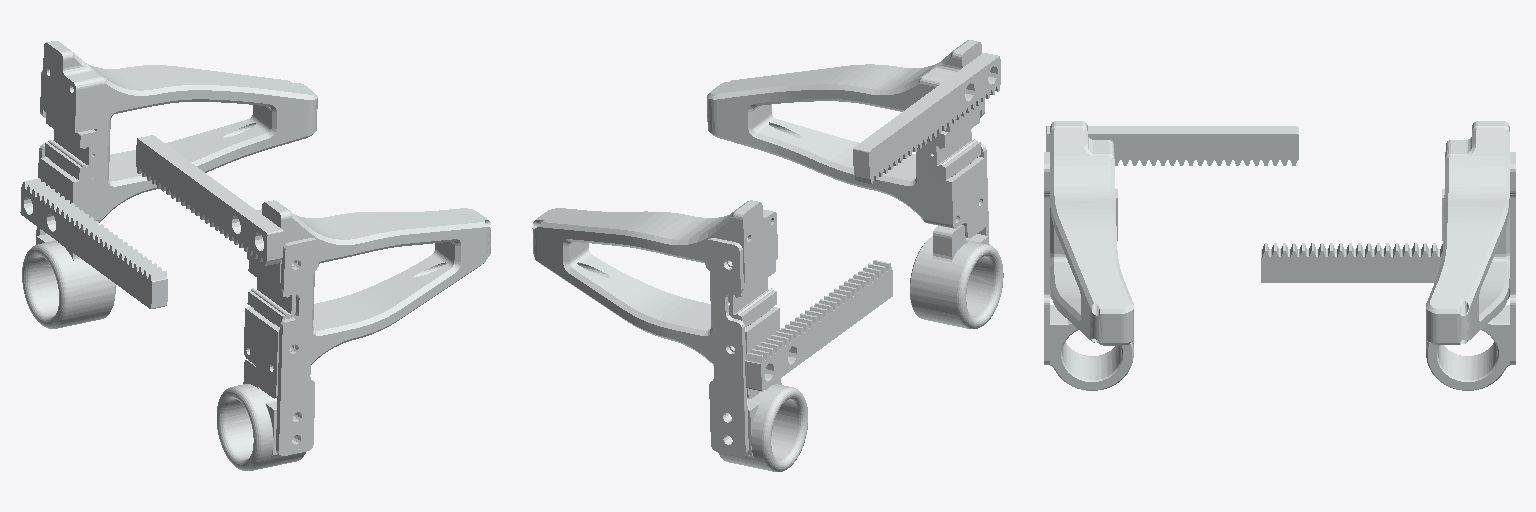
URDF robot description (y1):
<?xml version="1.0" encoding="utf-8"?>
<!-- This URDF was automatically created by SolidWorks to URDF Exporter! Originally created by [author] ([email redacted]) 
     Commit Version: 1.6.0-4-g7f85cfe  Build Version: 1.6.7995.38578
     For more information, please see http://wiki.ros.org/sw_urdf_exporter -->
<robot
  name="y1">
  <link name="world"/>
  <joint name="fixed_base_joint" type="fixed">
    <origin
      xyz="0 0 0.06675"
      rpy="0 0 0" />
    <parent link="world"/>
    <child link="base_link"/>
    <axis
      xyz="0 0 1" />
  </joint>
  <link
    name="base_link">
    <inertial>
      <origin
        xyz="-0.000029 -0.000001 0.033965"
        rpy="0 0 0" />
      <mass
        value="0.632" />
      <inertia
        ixx="0.000532"
        ixy="0.000000"
        ixz="0.000001"
        iyy="0.000532"
        iyz="0.000000"
        izz="0.000493" />
    </inertial>
    <visual>
      <origin
        xyz="0 0 0"
        rpy="0 0 0" />
      <geometry>
        <mesh
          filename="package://y1_description/meshes/base_link.STL" />
      </geometry>
      <material
        name="">
        <color
          rgba="0.89804 0.91765 0.92941 1" />
      </material>
    </visual>
    <collision>
      <origin
        xyz="0 0 0"
        rpy="0 0 0" />
      <geometry>
        <mesh
          filename="package://y1_description/meshes/base_link.STL" />
      </geometry>
    </collision>
  </link>
  <link
    name="Link1">
    <inertial>
      <origin
        xyz="0.000693 -0.001221 0.050197"
        rpy="0 0 0" />
      <mass
        value="0.893000" />
      <inertia
        ixx="0.000738"
        ixy="0.000001"
        ixz="-0.000001"
        iyy="0.000755"
        iyz="-0.000002"
        izz="0.000606" />
    </inertial>
    <visual>
      <origin
        xyz="0 0 0"
        rpy="0 0 0" />
      <geometry>
        <mesh
          filename="package://y1_description/meshes/Link1.STL" />
      </geometry>
      <material
        name="">
        <color
          rgba="0.75294 0.75294 0.75294 1" />
      </material>
    </visual>
    <collision>
      <origin
        xyz="0 0 0"
        rpy="0 0 0" />
      <geometry>
        <mesh
          filename="package://y1_description/meshes/Link1.STL" />
      </geometry>
    </collision>
  </link>
  <joint
    name="JOINT1"
    type="revolute">
    <origin
      xyz="0 0 0"
      rpy="0 0 0" />
    <parent
      link="base_link" />
    <child
      link="Link1" />
    <axis
      xyz="0 0 -1" />
    <limit
      lower="-3.0"
      upper="3.0"
      effort="30"
      velocity="5" />
  </joint>
  <link
    name="Link2">
    <inertial>
      <origin
        xyz="-0.185969 -0.001045 -0.000524"
        rpy="0 0 0" />
      <mass
        value="1.028000" />
      <inertia
        ixx="0.000769"
        ixy="0.000142"
        ixz="-0.000070"
        iyy="0.011712"
        iyz="0.000002"
        izz="0.011441" />
    </inertial>
    <visual>
      <origin
        xyz="0 0 0"
        rpy="0 0 0" />
      <geometry>
        <mesh
          filename="package://y1_description/meshes/Link2.STL" />
      </geometry>
      <material
        name="">
        <color
          rgba="0.898039215686275 0.917647058823529 0.929411764705882 1" />
      </material>
    </visual>
    <collision>
      <origin
        xyz="0 0 0"
        rpy="0 0 0" />
      <geometry>
        <mesh
          filename="package://y1_description/meshes/Link2.STL" />
      </geometry>
    </collision>
  </link>
  <joint
    name="JOINT2"
    type="revolute">
    <origin
      xyz="0.00075 0 0.055"
      rpy="1.5708 0 0" />
    <parent
      link="Link1" />
    <child
      link="Link2" />
    <axis
      xyz="0 0 1" />
    <limit
      lower="-3.5"
      upper="0.2"
      effort="100"
      velocity="5" />
  </joint>
  <link
    name="Link3">
    <inertial>
      <origin
        xyz="0.132810 0.052976 -0.000025"
        rpy="0 0 0" />
      <mass
        value="0.838" />
      <inertia
        ixx="0.000976"
        ixy="-0.001080"
        ixz="0.000036"
        iyy="0.007005"
        iyz="0.000000"
        izz="0.007063" />
    </inertial>
    <visual>
      <origin
        xyz="0 0 0"
        rpy="0 0 0" />
      <geometry>
        <mesh
          filename="package://y1_description/meshes/Link3.STL" />
      </geometry>
      <material
        name="">
        <color
          rgba="0.89804 0.91765 0.92941 1" />
      </material>
    </visual>
    <collision>
      <origin
        xyz="0 0 0"
        rpy="0 0 0" />
      <geometry>
        <mesh
          filename="package://y1_description/meshes/Link3.STL" />
      </geometry>
    </collision>
  </link>
  <joint
    name="JOINT3"
    type="revolute">
    <origin
      xyz="-0.28 0 0"
      rpy="0 0 0" />
    <parent
      link="Link2" />
    <child
      link="Link3" />
    <axis
      xyz="0 0 1" />
    <limit
      lower="-0.2"
      upper="4.1"
      effort="30"
      velocity="5" />
  </joint>
  <link
    name="Link4">
    <inertial>
      <origin
        xyz="0.067326 0.059806 0.005043"
        rpy="0 0 0" />
      <mass
        value="0.444000" />
      <inertia
        ixx="0.000428"
        ixy="-0.000241"
        ixz="0.000099"
        iyy="0.000477"
        iyz="0.000091"
        izz="0.000648" />
    </inertial>
    <visual>
      <origin
        xyz="0 0 0"
        rpy="0 0 0" />
      <geometry>
        <mesh
          filename="package://y1_description/meshes/Link4.STL" />
      </geometry>
      <material
        name="">
        <color
          rgba="0.898039215686275 0.917647058823529 0.929411764705882 1" />
      </material>
    </visual>
    <collision>
      <origin
        xyz="0 0 0"
        rpy="0 0 0" />
      <geometry>
        <mesh
          filename="package://y1_description/meshes/Link4.STL" />
      </geometry>
    </collision>
  </link>
  <joint
    name="JOINT4"
    type="revolute">
    <origin
      xyz="0.215 0.063 0"
      rpy="0 0 0" />
    <parent
      link="Link3" />
    <child
      link="Link4" />
    <axis
      xyz="0 0 1" />
    <limit
      lower="-2.5"
      upper="1.7"
      effort="10"
      velocity="20" />
  </joint>
  <link
    name="Link5">
    <inertial>
      <origin
        xyz="0.002596 0.000018 0.039895"
        rpy="0 0 0" />
      <mass
        value="0.363000" />
      <inertia
        ixx="0.000189"
        ixy="0.000000"
        ixz="0.000008"
        iyy="0.000186"
        iyz="-0.000001"
        izz="0.000148" />
    </inertial>
    <visual>
      <origin
        xyz="0 0 0"
        rpy="0 0 0" />
      <geometry>
        <mesh
          filename="package://y1_description/meshes/Link5.STL" />
      </geometry>
      <material
        name="">
        <color
          rgba="0.89804 0.91765 0.92941 1" />
      </material>
    </visual>
    <collision>
      <origin
        xyz="0 0 0"
        rpy="0 0 0" />
      <geometry>
        <mesh
          filename="package://y1_description/meshes/Link5.STL" />
      </geometry>
    </collision>
  </link>
  <joint
    name="JOINT5"
    type="revolute">
    <origin
      xyz="0.080817 0.05072 0.00025"
      rpy="1.5708 0 -0.015918" />
    <parent
      link="Link4" />
    <child
      link="Link5" />
    <axis
      xyz="0 0 1" />
    <limit
      lower="-2.0"
      upper="2.0"
      effort="10"
      velocity="20" />
  </joint>
  <link
    name="Link6">
    <inertial>
      <origin
        xyz="-0.006 0.000 0.047"
        rpy="0 0 0" />
      <mass
        value=" 0.479" />
      <inertia
        ixx="0.000"
        ixy="0.000"
        ixz=" 0.000"
        iyy="0.001"
        iyz="0.000"
        izz="0.001" />
    </inertial>
    <visual>
      <origin
        xyz="0 0 0"
        rpy="0 0 0" />
      <geometry>
        <mesh
          filename="package://y1_description/meshes/Link6.STL" />
      </geometry>
      <material
        name="">
        <color
          rgba="1 1 1 1" />
      </material>
    </visual>
    <collision>
      <origin
        xyz="0 0 0"
        rpy="0 0 0" />
      <geometry>
        <mesh
          filename="package://y1_description/meshes/Link6.STL" />
      </geometry>
    </collision>
  </link>
  <joint
    name="JOINT6"
    type="revolute">
    <origin
      xyz="0.0235 0 0.044"
      rpy="3.1416 1.5708 3.1416" />
    <parent
      link="Link5" />
    <child
      link="Link6" />
    <axis
      xyz="0 0 1" />
    <limit
      lower="-3.0"
      upper="3.0"
      effort="10"
      velocity="20" />
  </joint>
  <link
    name="Claw_Link_R">
    <inertial>
      <origin
        xyz="0.008 -0.016 -0.129"
        rpy="0 0 0" />
      <mass
        value="0.086" />
      <inertia
        ixx="5.6073E-05"
        ixy="-5.0476E-07"
        ixz="-6.5556E-06"
        iyy="8.8688E-05"
        iyz="6.7747E-08"
        izz="8.684E-05" />
    </inertial>
    <visual>
      <origin
        xyz="0 0 0"
        rpy="0 0 0" />
      <geometry>
        <mesh
          filename="package://y1_description/meshes/Claw_Link_R.STL" />
      </geometry>
      <material
        name="">
        <color
          rgba="0.89804 0.91765 0.92941 1" />
      </material>
    </visual>
    <collision>
      <origin
        xyz="0 0 0"
        rpy="0 0 0" />
      <geometry>
        <mesh
          filename="package://y1_description/meshes/Claw_Link_R.STL" />
      </geometry>
    </collision>
  </link>
  <joint
    name="Claw_Link_R"
    type="prismatic">
    <origin
      xyz="-0.0012063 0.076999 0.075791"
      rpy="0 -1.5708 -1.5708" />
    <parent
      link="Link6" />
    <child
      link="Claw_Link_R" />
    <axis
      xyz="0 0 -1" />
    <limit
      lower="0"
      upper="0.045"
      effort="10"
      velocity="20" />
  </joint>
  <link
    name="Claw_Link_L">
    <inertial>
      <origin
        xyz="0.008 0.006 0.129"
        rpy="0 0 0" />
      <mass
        value="0.086" />
      <inertia
        ixx="5.7863E-05"
        ixy="-4.8654E-07"
        ixz="6.5445E-06"
        iyy="8.9831E-05"
        iyz="-1.1971E-07"
        izz="8.8153E-05" />
    </inertial>
    <visual>
      <origin
        xyz="0 0 0"
        rpy="0 0 0" />
      <geometry>
        <mesh
          filename="package://y1_description/meshes/Claw_Link_L.STL" />
      </geometry>
      <material
        name="">
        <color
          rgba="0.89804 0.91765 0.92941 1" />
      </material>
    </visual>
    <collision>
      <origin
        xyz="0 0 0"
        rpy="0 0 0" />
      <geometry>
        <mesh
          filename="package://y1_description/meshes/Claw_Link_L.STL" />
      </geometry>
    </collision>
  </link>
  <joint
    name="Claw_Link_L"
    type="prismatic">
    <origin
      xyz="-0.0012063 -0.077001 0.07579"
      rpy="0 -1.5708 -1.5708" />
    <parent
      link="Link6" />
    <child
      link="Claw_Link_L" />
    <axis
      xyz="0 0 -1" />
    <limit
      lower="0"
      upper="0.045"
      effort="10"
      velocity="20" />
  </joint>
</robot>

--- Render facts (derived) ---
Views: 3 orthographic renders of the robot side by side, from view 1: azimuth 30°, elevation 25°; view 2: azimuth 150°, elevation 25°; view 3: azimuth 270°, elevation 25°.
Robot: y1 — 10 links, 9 joints (6 revolute, 2 prismatic, 1 fixed); root link world; default pose: all joints at 0.
Links seen in each view (by area): view 1: Claw_Link_R, Claw_Link_L; view 2: Claw_Link_L, Claw_Link_R; view 3: Claw_Link_R, Claw_Link_L.
Boxes of the visible links, left/top/right/bottom form: Claw_Link_R: left=136, top=135, right=491, bottom=470; Claw_Link_L: left=20, top=41, right=317, bottom=328; Claw_Link_L: left=532, top=200, right=892, bottom=471; Claw_Link_R: left=707, top=40, right=1003, bottom=328; Claw_Link_R: left=1044, top=121, right=1298, bottom=390; Claw_Link_L: left=1261, top=121, right=1515, bottom=390.
Bounding box of the posed robot: 0.0975 × 0.158 × 0.0952 m (x, y, z).
Meshes: 9 distinct files referenced, 2 mesh visuals loaded (2 binary STL); not drawn: 7 (reference not matched to a file when rendering).